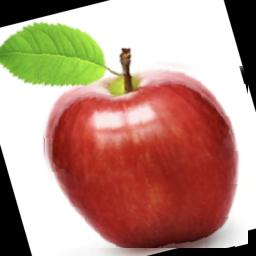Apple Fresh: (42, 54, 248, 249)
